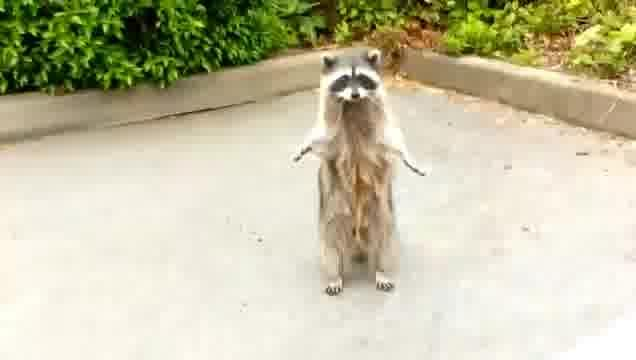raccoon: (292, 51, 427, 297)
